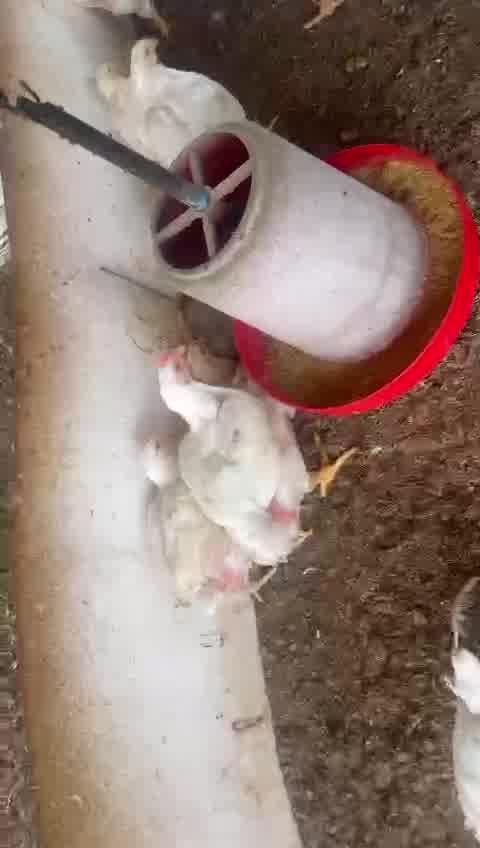Normal: (157, 344, 351, 543), (144, 432, 313, 621), (87, 60, 229, 138), (125, 35, 249, 120)
